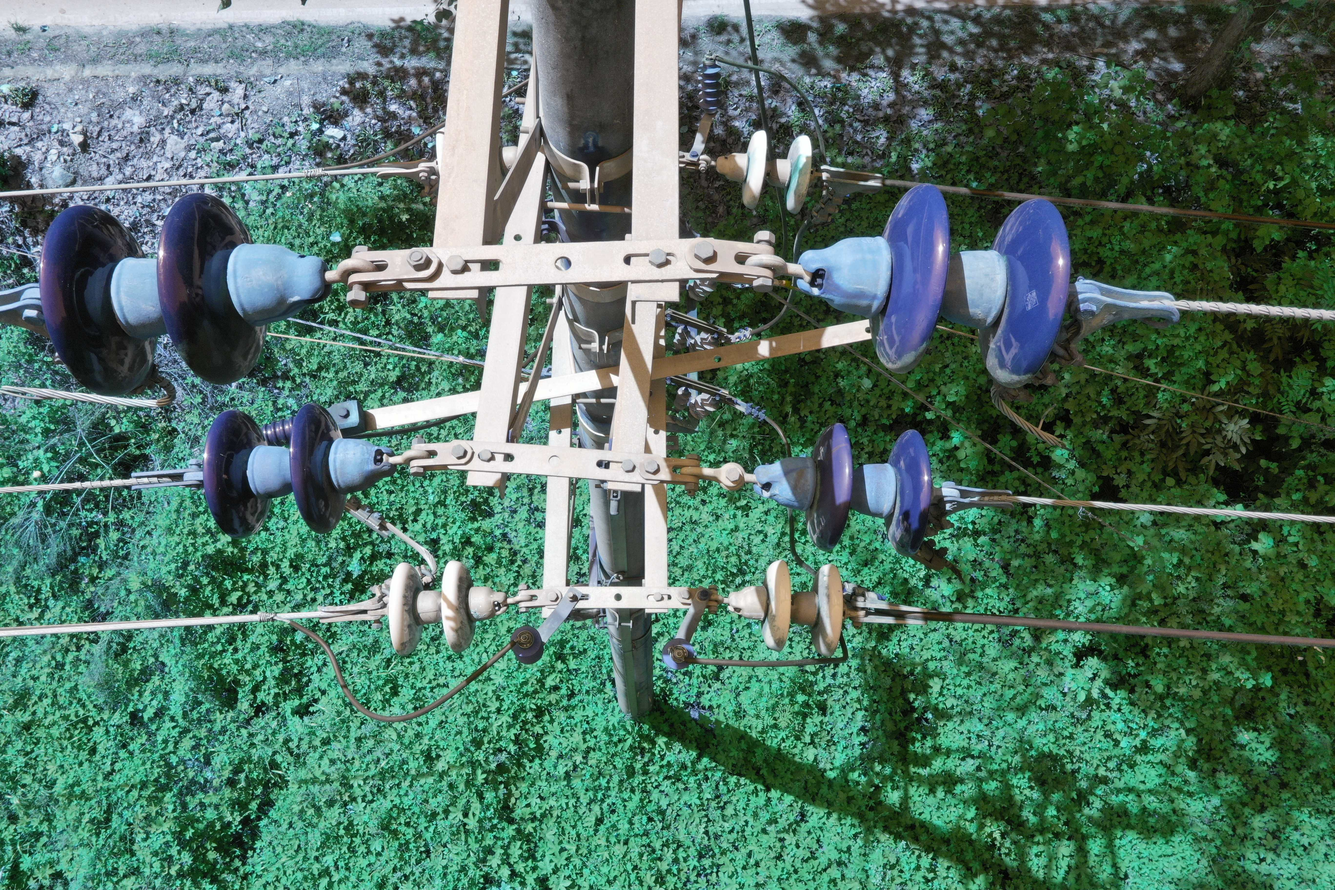severe_soiling_no_discharge_whole: (795, 170, 1073, 397), (753, 422, 936, 558), (383, 558, 512, 659), (729, 555, 847, 659), (708, 122, 816, 211)
